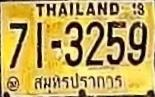1: (36, 22, 42, 68)
2: (85, 21, 104, 65)
3: (64, 20, 82, 66)
5: (106, 20, 125, 64)
7: (9, 22, 27, 67)
9: (128, 20, 146, 64)
SPK: (31, 71, 126, 95)
